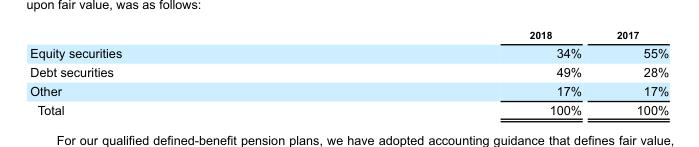table: (29, 29, 668, 116)
table column: (29, 29, 324, 116), (324, 29, 598, 116), (598, 29, 668, 116)
table column header: (29, 29, 668, 42)
table row: (29, 42, 668, 61), (29, 61, 668, 80), (29, 80, 668, 99), (29, 99, 668, 116), (29, 29, 668, 42)
